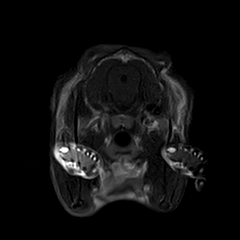Brain: (75, 31, 174, 129)
